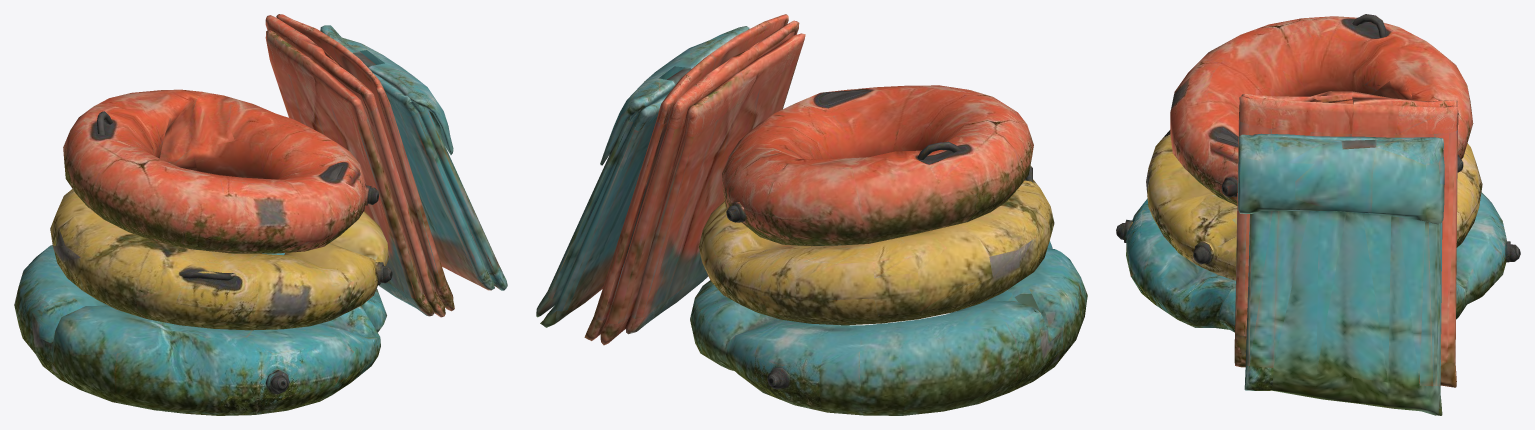
File: float-pile.glb
The picture shows the model from 3 angles, left to right: view 1: azimuth 30°, elevation 25°; view 2: azimuth 150°, elevation 25°; view 3: azimuth 270°, elevation 25°; orthographic projection. The views are drawn at different scales.
Parts seen in each view (by area): view 1: float-pile; view 2: float-pile; view 3: float-pile.
Boxes of the visible parts, box(x1,y1,x2,y2) form: float-pile: box(14, 14, 507, 415); float-pile: box(536, 14, 1087, 415); float-pile: box(1116, 14, 1520, 415).
Size of the model in its own units: 3 by 1.74 by 2.42.
Materials: 1 (1 with a texture image).
